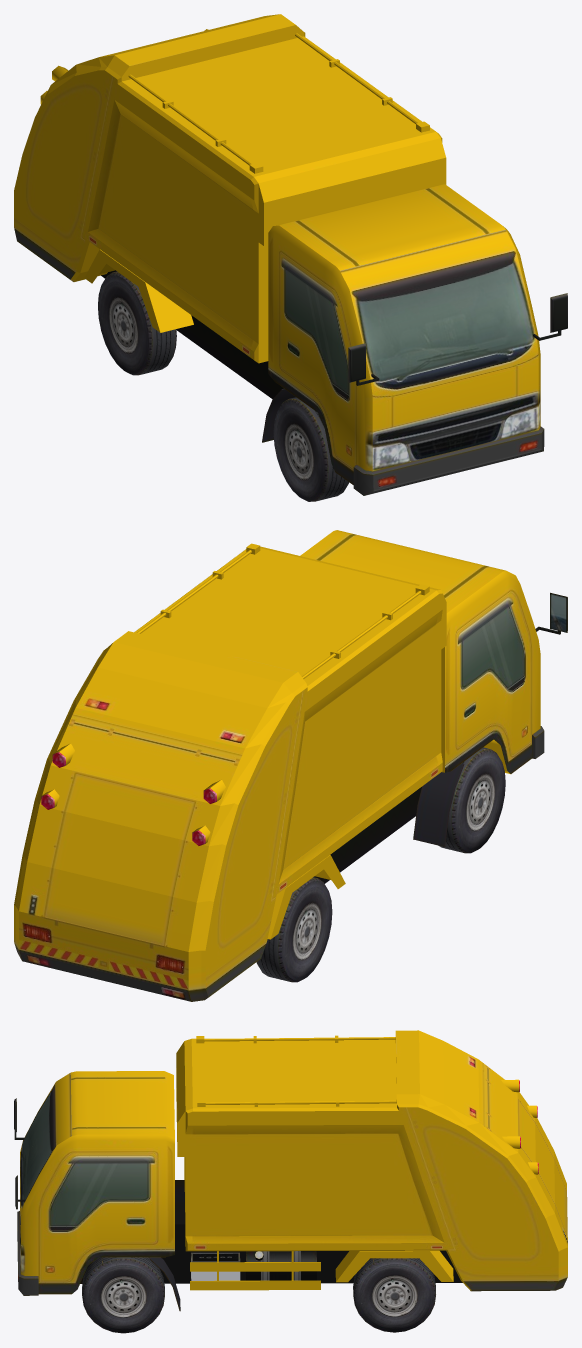
Rendered from trash_truck.gltf.
3 views of the same model, one above another, from view 1: azimuth 30°, elevation 25°; view 2: azimuth 150°, elevation 25°; view 3: azimuth 270°, elevation 25° (orthographic). The views are drawn at different scales.
Parts seen in each view (by area): view 1: Garbage_Truck1objcleaner; view 2: Garbage_Truck1objcleaner; view 3: Garbage_Truck1objcleaner.
Part boxes in pixels (left/top/right/bottom): Garbage_Truck1objcleaner: left=14, top=14, right=567, bottom=501; Garbage_Truck1objcleaner: left=14, top=530, right=567, bottom=1001; Garbage_Truck1objcleaner: left=14, top=1030, right=567, bottom=1333.
Size of the model in its own units: 7.65 by 10.09 by 21.37.
1 material, 1 textured.
